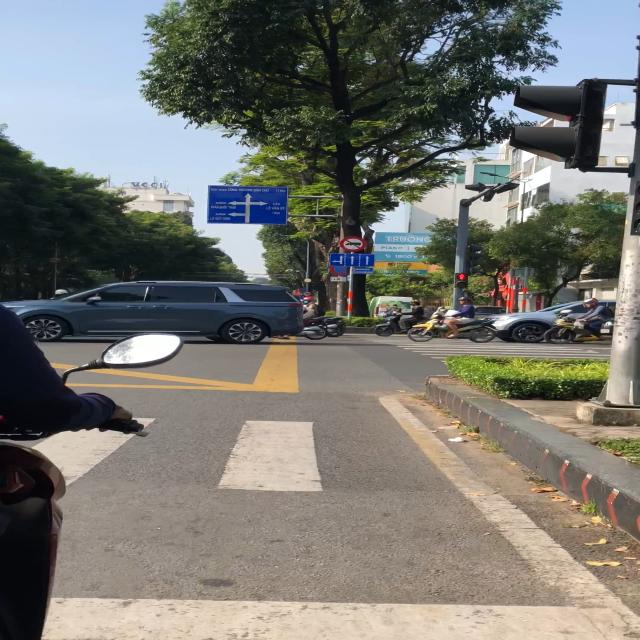Bien bao cam xe so-mi ro-mooc: (339, 235, 370, 252)
